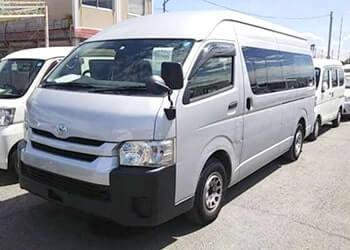van: (17, 12, 319, 215)
